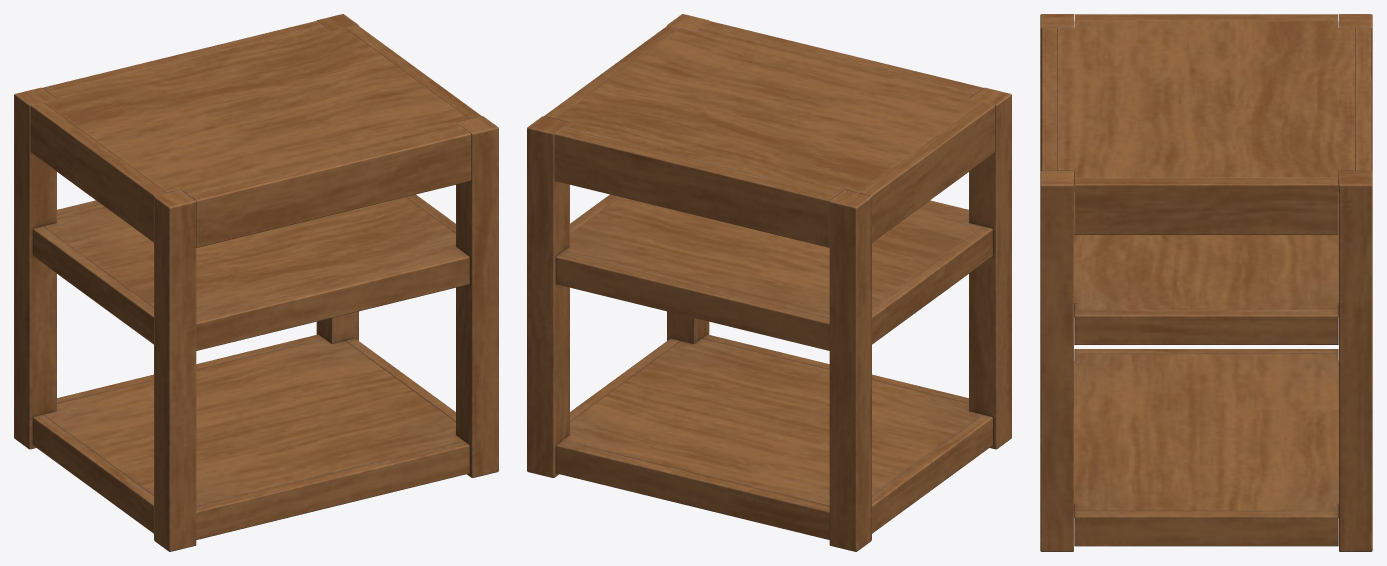
File: side_table_01.glb
3 views of the same model, side by side, from view 1: azimuth 30°, elevation 25°; view 2: azimuth 150°, elevation 25°; view 3: azimuth 270°, elevation 25° (orthographic). The views are drawn at different scales.
Parts seen in each view (by area): view 1: side_table_01; view 2: side_table_01; view 3: side_table_01.
Part boxes in pixels (x1,y1,x2,y2): side_table_01: (14, 14, 498, 551); side_table_01: (527, 14, 1011, 551); side_table_01: (1040, 14, 1372, 551).
Bounding box in the file's own units: 0.55 × 0.5507 × 0.45.
Materials: 1 (1 with a texture image).
